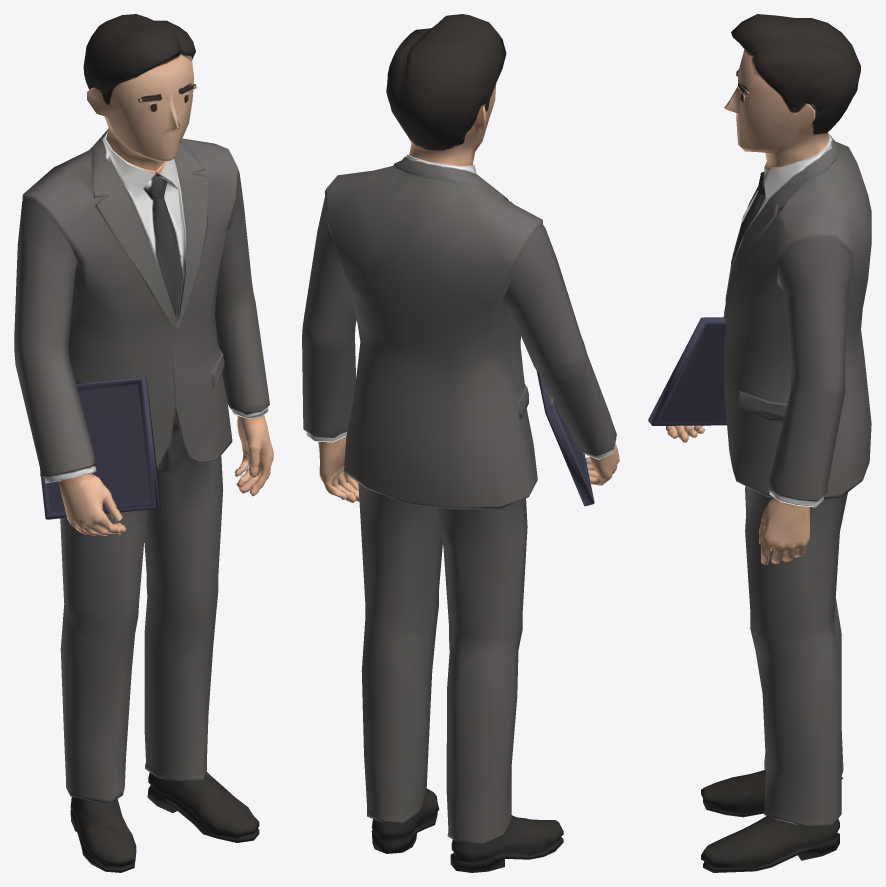
File: original_glb.glb
The picture shows the model from 3 angles, left to right: view 1: azimuth 30°, elevation 25°; view 2: azimuth 150°, elevation 25°; view 3: azimuth 270°, elevation 25°; orthographic projection. The views are drawn at different scales.
Parts seen in each view (by area): view 1: Office worker A; view 2: Office worker A; view 3: Office worker A.
Boxes of the visible parts, x1,y1,x2,y2 form: Office worker A: (14, 14, 273, 872); Office worker A: (302, 14, 619, 872); Office worker A: (648, 14, 871, 872).
Bounding box in the file's own units: 0.3379 × 0.998 × 0.248.
1 material, 1 textured.
